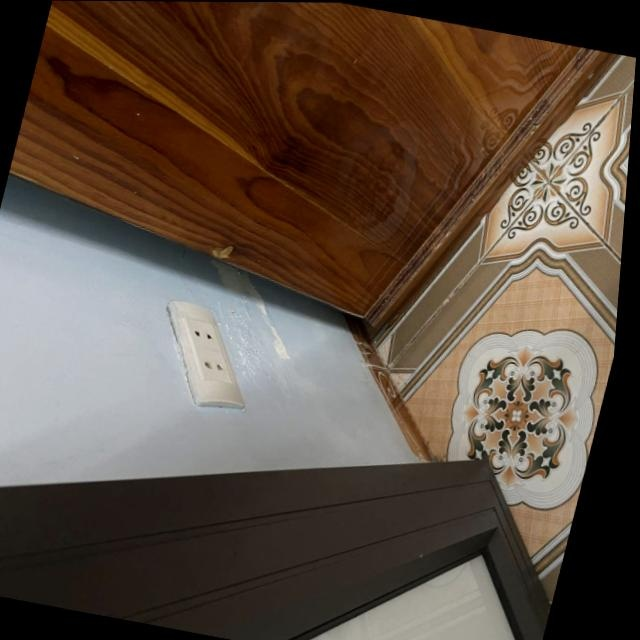outlet: (142, 297, 269, 414)
